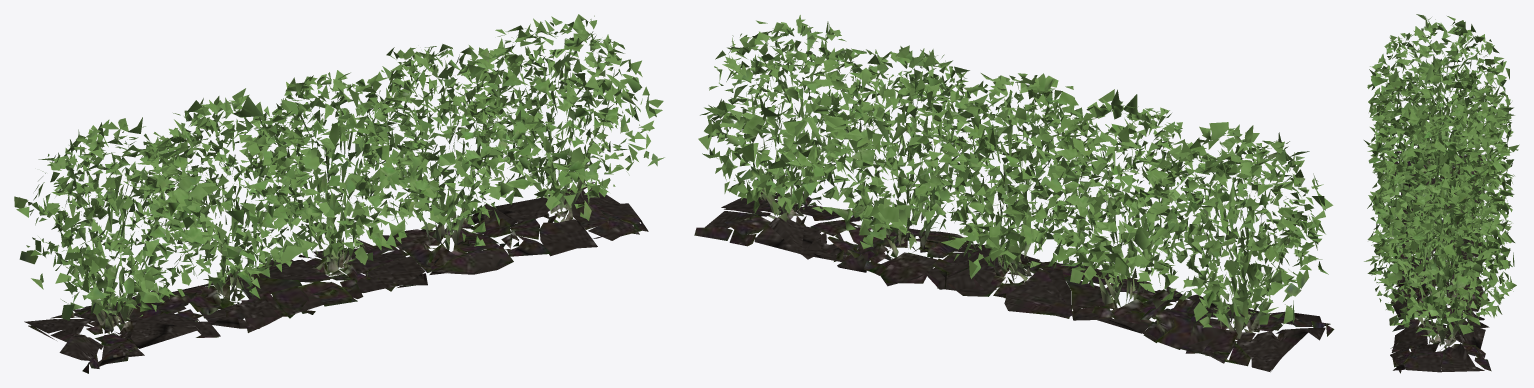
The model's file is soy-row.glb.
3 renders of one model, left to right at view 1: azimuth 30°, elevation 25°; view 2: azimuth 150°, elevation 25°; view 3: azimuth 270°, elevation 25°, orthographic. The views are drawn at different scales.
Visible parts, largest first — view 1: Mesh_0; view 2: Mesh_0; view 3: Mesh_0.
Boxes of the visible parts, x1,y1,x2,y2 form: Mesh_0: (14,14,664,373); Mesh_0: (694,15,1334,372); Mesh_0: (1364,14,1519,373).
Bounding box in the file's own units: 1.96 × 0.6874 × 0.5656.
1 material, 1 textured.
